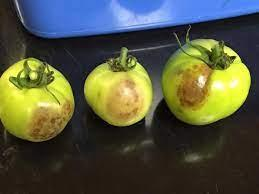tomato late blight: (162, 40, 253, 128), (1, 59, 76, 144), (84, 49, 154, 129)
